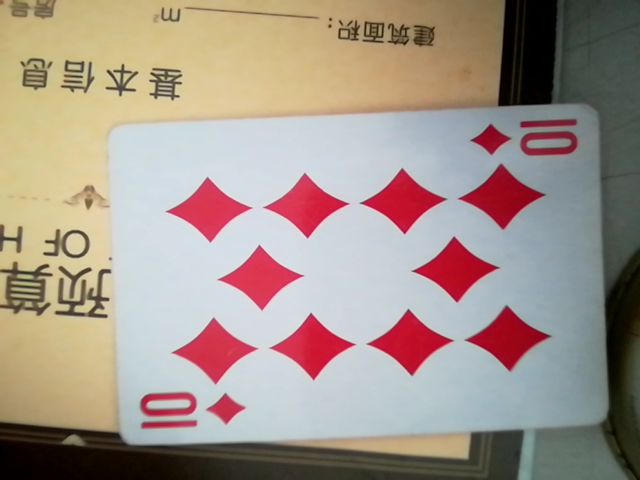fk 10: (105, 105, 607, 457)
